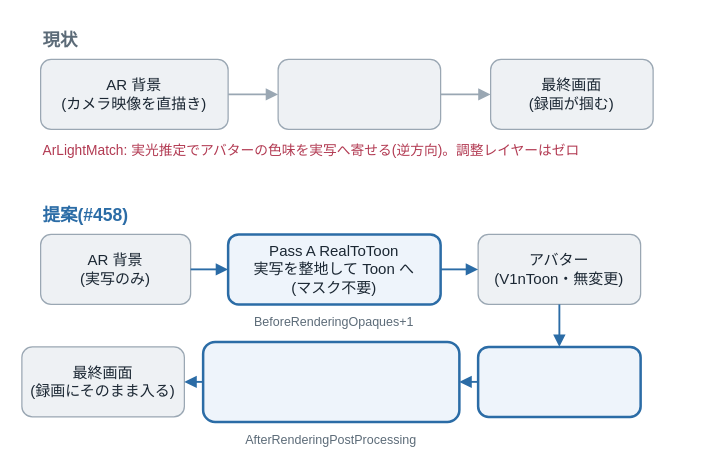
Image size: 713x470. Some labels were removed from this diagram. Here are the shapes that lost their labels. From the top down, the centre of each, then its label:
At pixel 359 93: "アバター (V1nToon)".
At pixel 330 381: "Pass B AirLayer 空気層(ポジ型グレイン・暗部清浄・ハレーション) 背景+アバター両方".
At pixel 558 381: "ダスト (3D パーティクル・深度で隠れる)".
